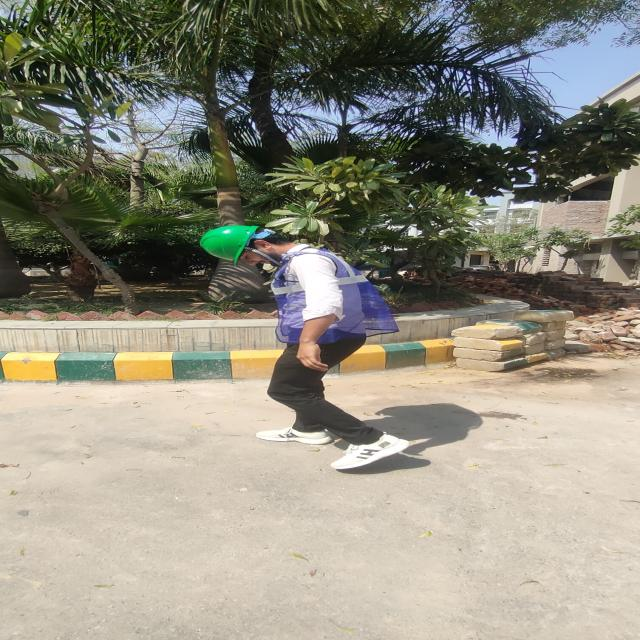safe: (199, 225, 400, 469)
